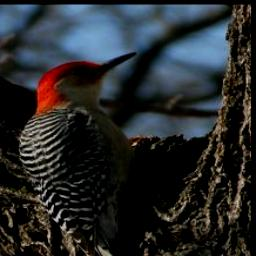Woodpecker: (13, 49, 161, 256)
